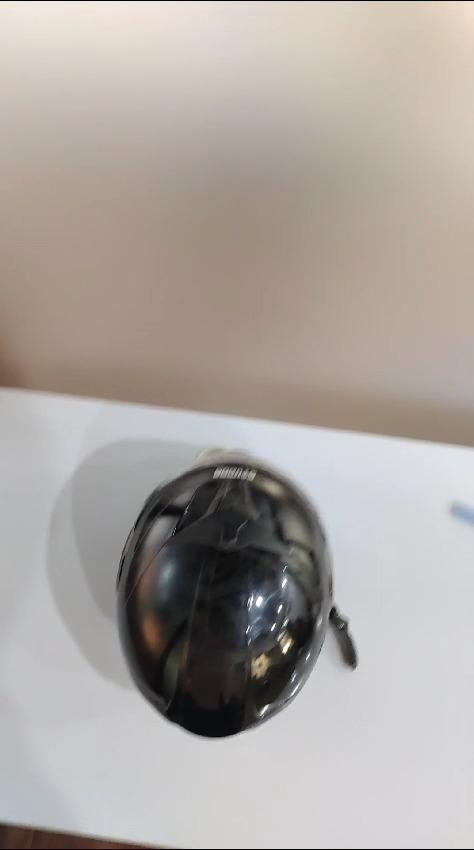Helmet: (116, 448, 327, 751)
